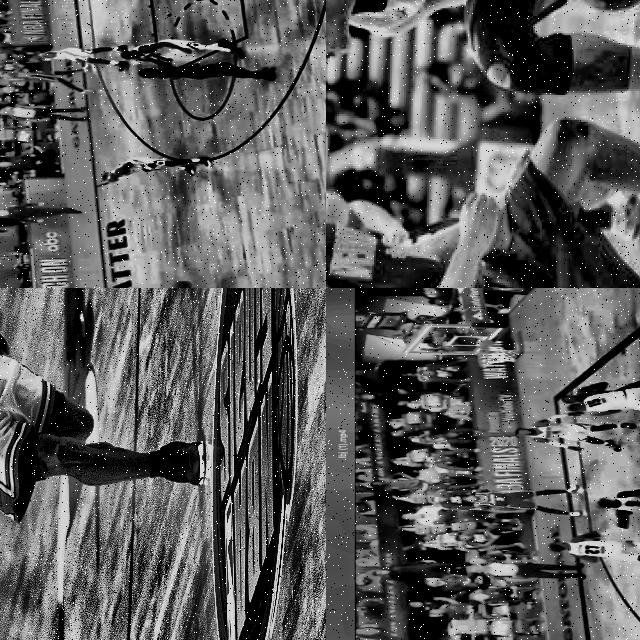Basketball: (416, 468, 438, 479), (175, 281, 189, 288)
